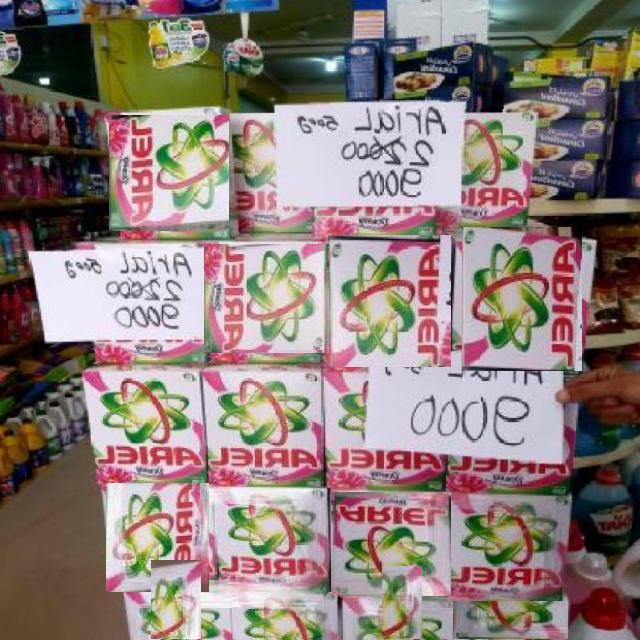Detergent: (463, 227, 582, 371), (329, 234, 451, 367), (108, 115, 240, 231), (208, 361, 322, 487), (204, 244, 329, 353), (449, 494, 574, 603), (330, 491, 451, 596), (218, 488, 327, 594), (107, 483, 209, 592), (449, 110, 537, 227), (229, 113, 275, 232), (232, 592, 340, 639), (453, 601, 568, 639), (151, 561, 201, 640), (381, 567, 422, 640)
